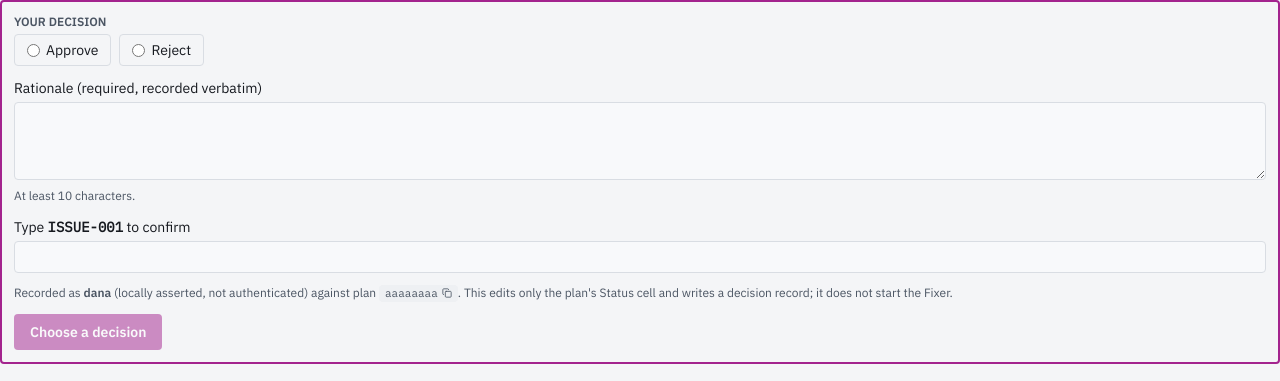
Test: DecisionForm (stale-state protection) › cannot submit until a decision, a rationale and the typed issue id are given; no auto-approve
Expected: the button "Choose a decision" is disabled, [14,314,162,350]
Step 1. Click the radio button labelled "Approve" → (34, 50), box [27,44,40,56]
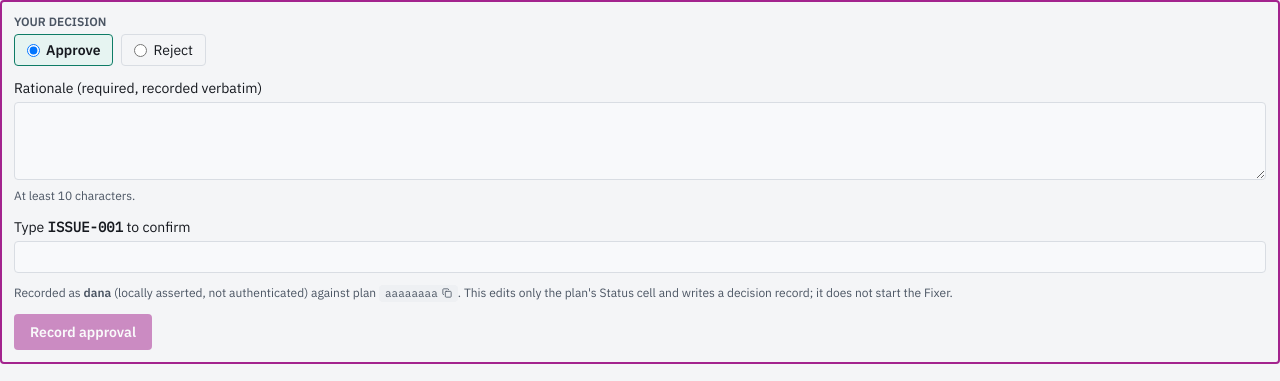
Step 2. Type "Approach is sound and scoped." into the text box labelled "Rationale" → (640, 141), box [14,102,1266,180]
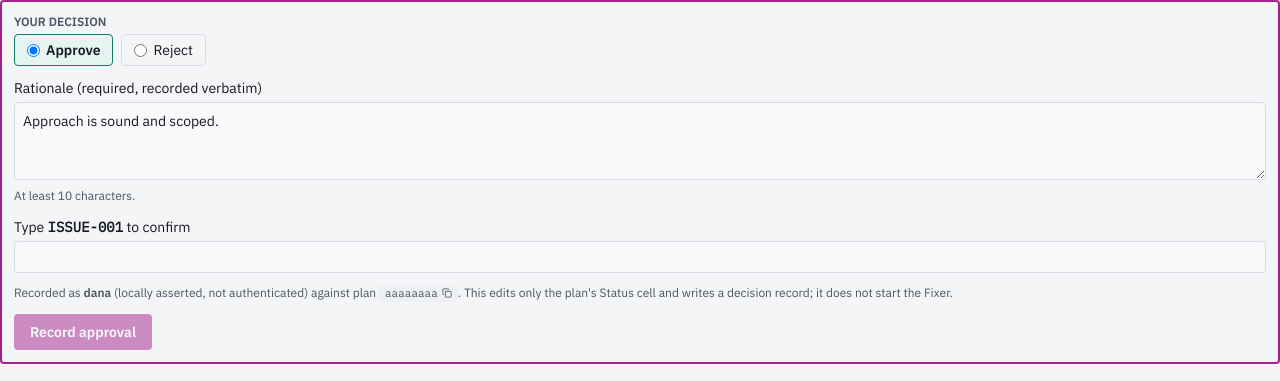
Expected: the button "Record approval" is disabled, [14,314,152,350]
Step 3. Type "ISSUE-001" into the field labelled "Type ISSUE-001 to confirm" → (640, 257), box [14,241,1266,273]
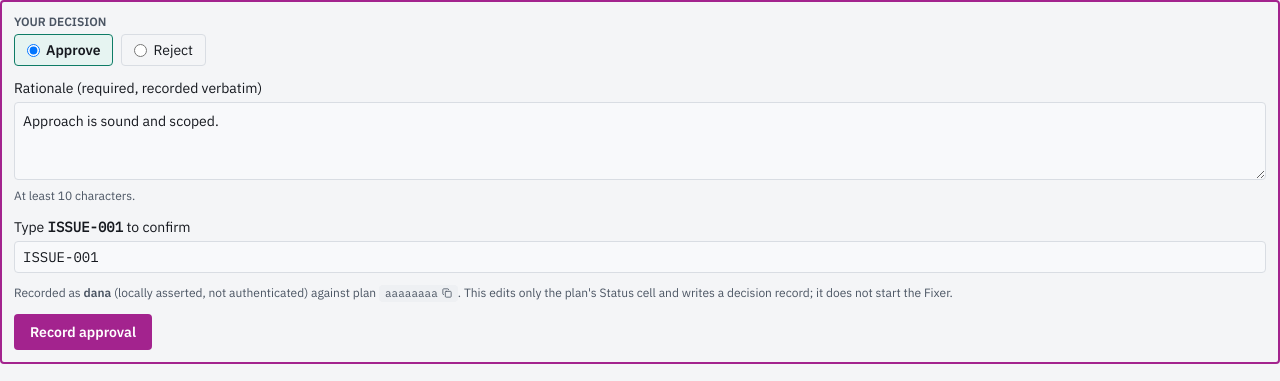
Now the button "Record approval" is enabled, box [14,314,152,350]
